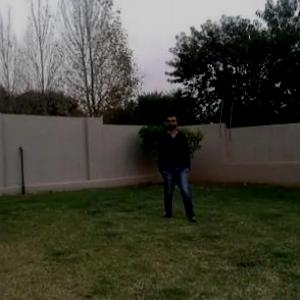follow: (162, 108, 192, 224)
